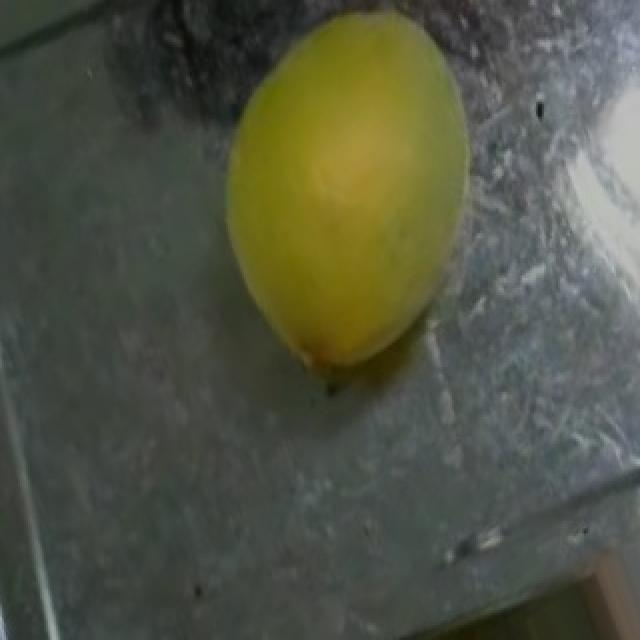fruit: (192, 0, 546, 384)
